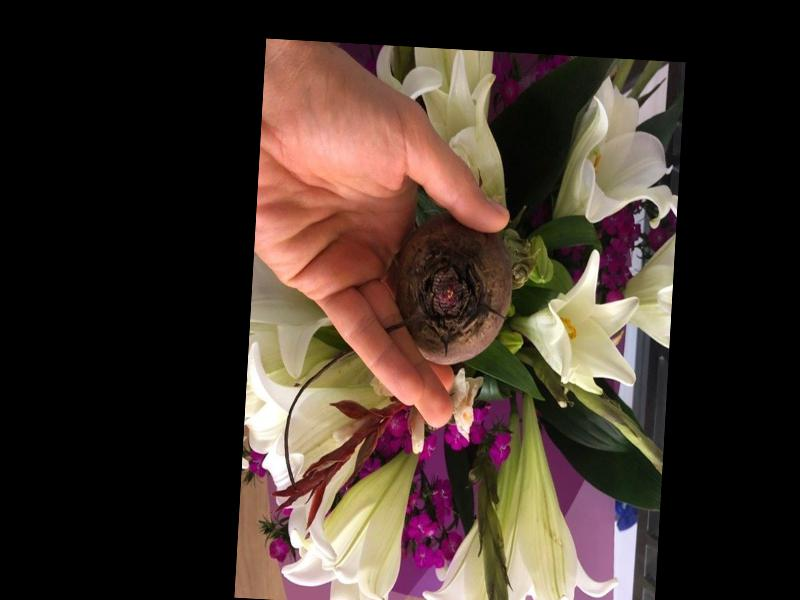Beet: (387, 213, 516, 370)
